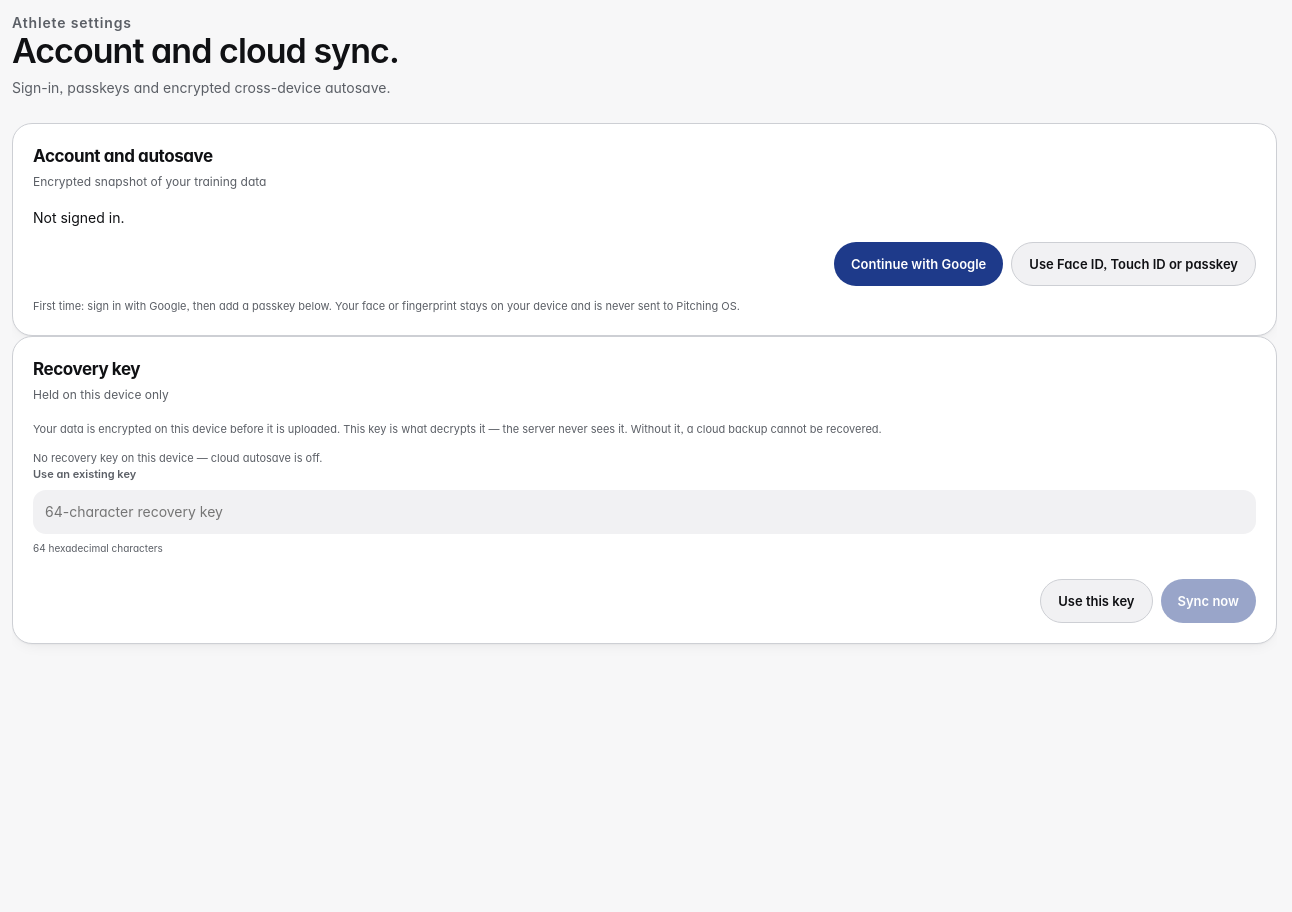
Account › rejects a malformed recovery key
The image size is (1292, 912).
Step 1. Type "nope" into the field with placeholder "64-character recovery key" → {"x": 644, "y": 512}, box [33,490,1256,534]
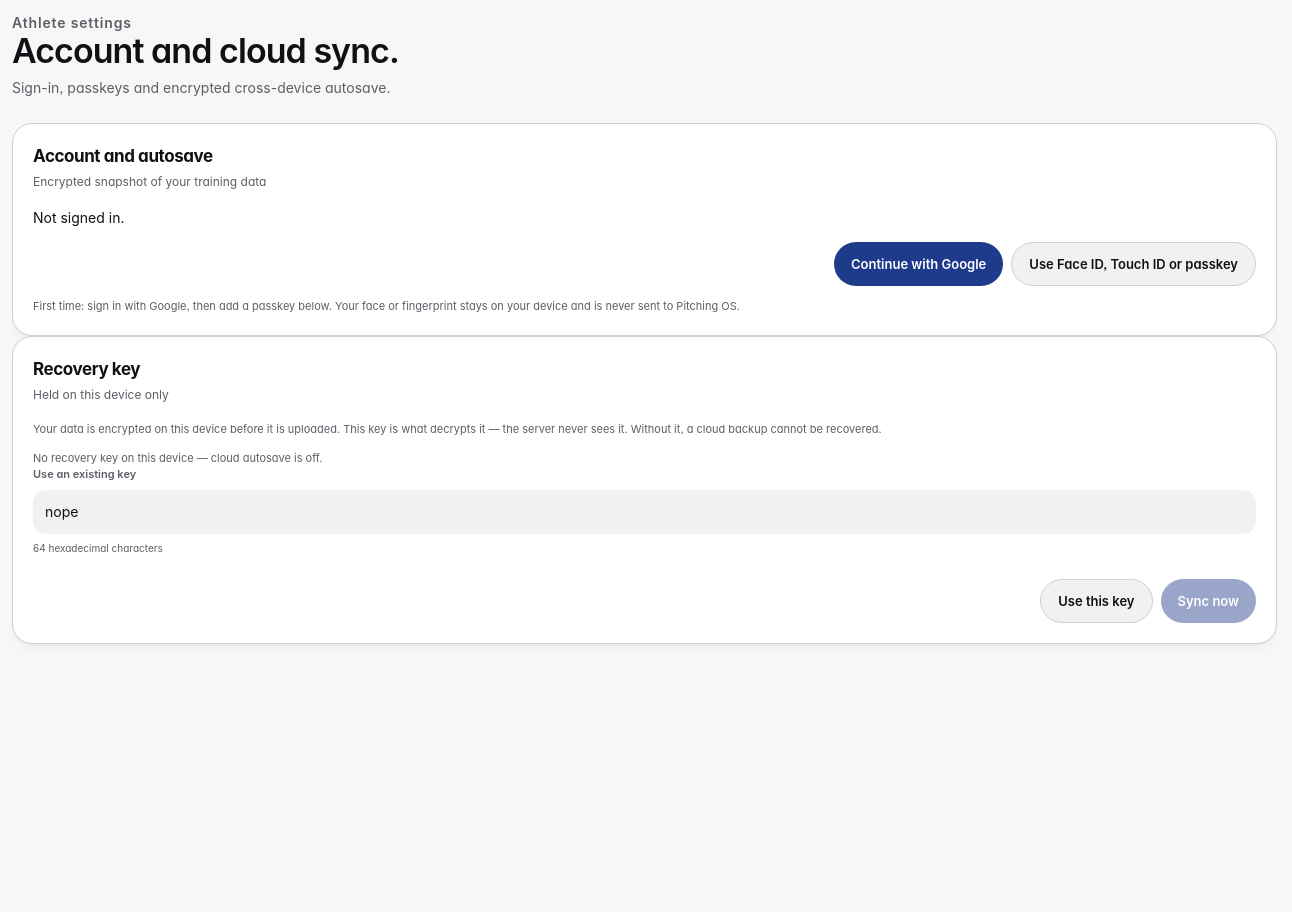
Step 2. Click the button "Use this key" → {"x": 1096, "y": 601}, box [1040,579,1152,623]
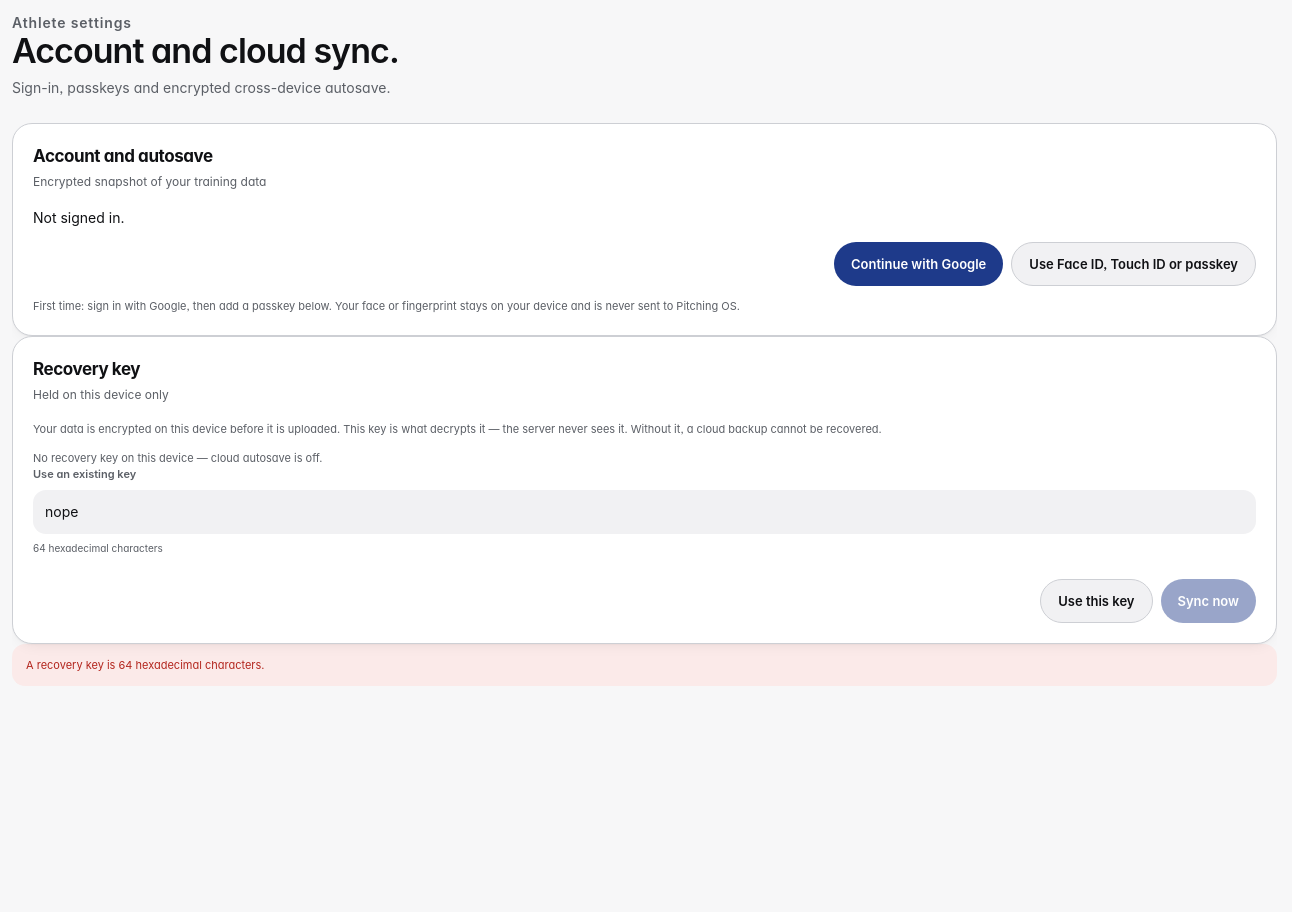
Now the message shows "64 hexadecimal", box [26,658,264,672]
